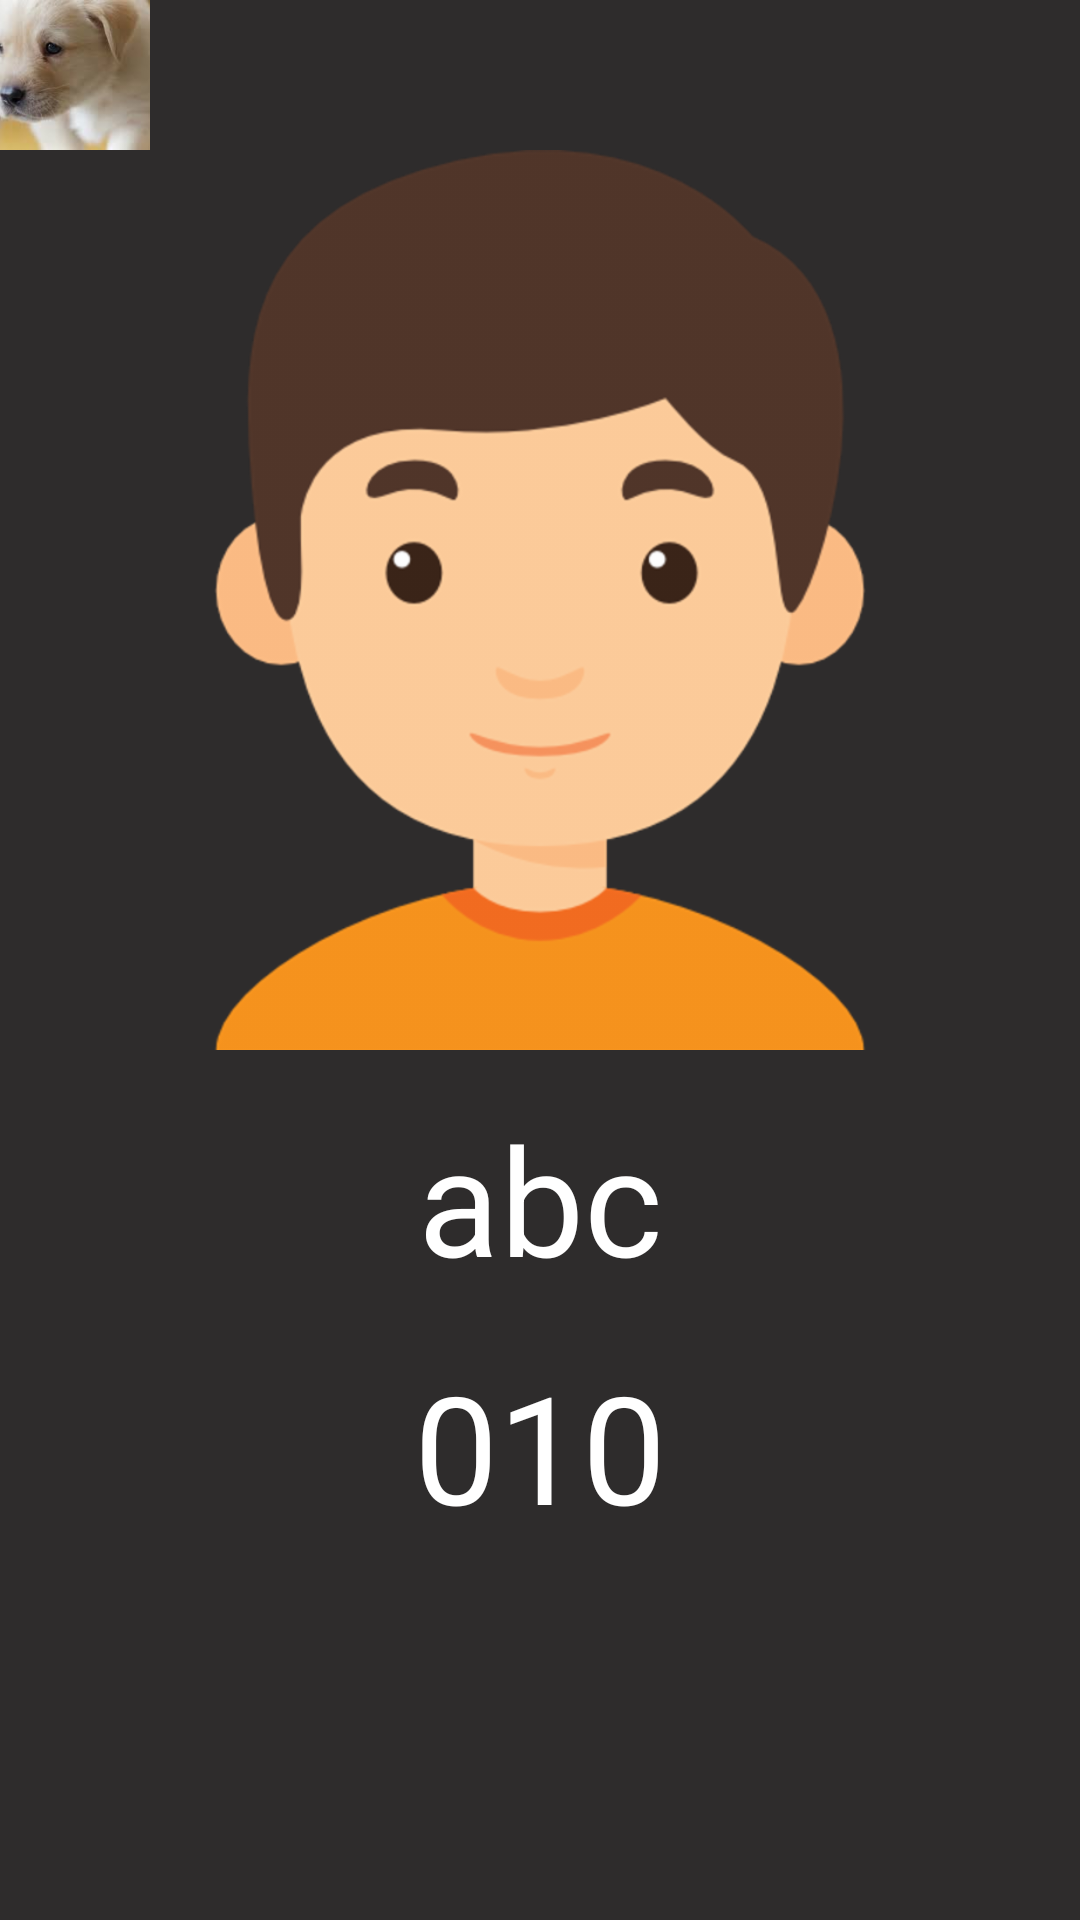

Icon click points for this 1080px×1920px phone screenshot, format (x,y):
dog: (75,75)
